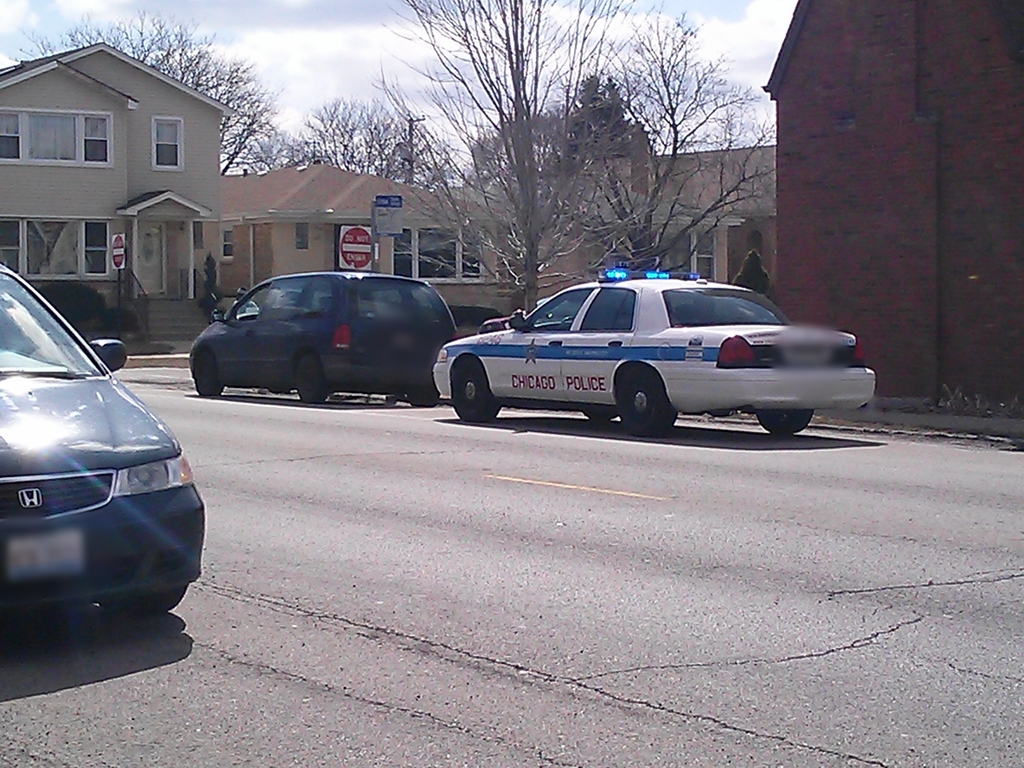Car: (422, 266, 871, 439), (0, 251, 211, 615), (176, 265, 456, 401)
